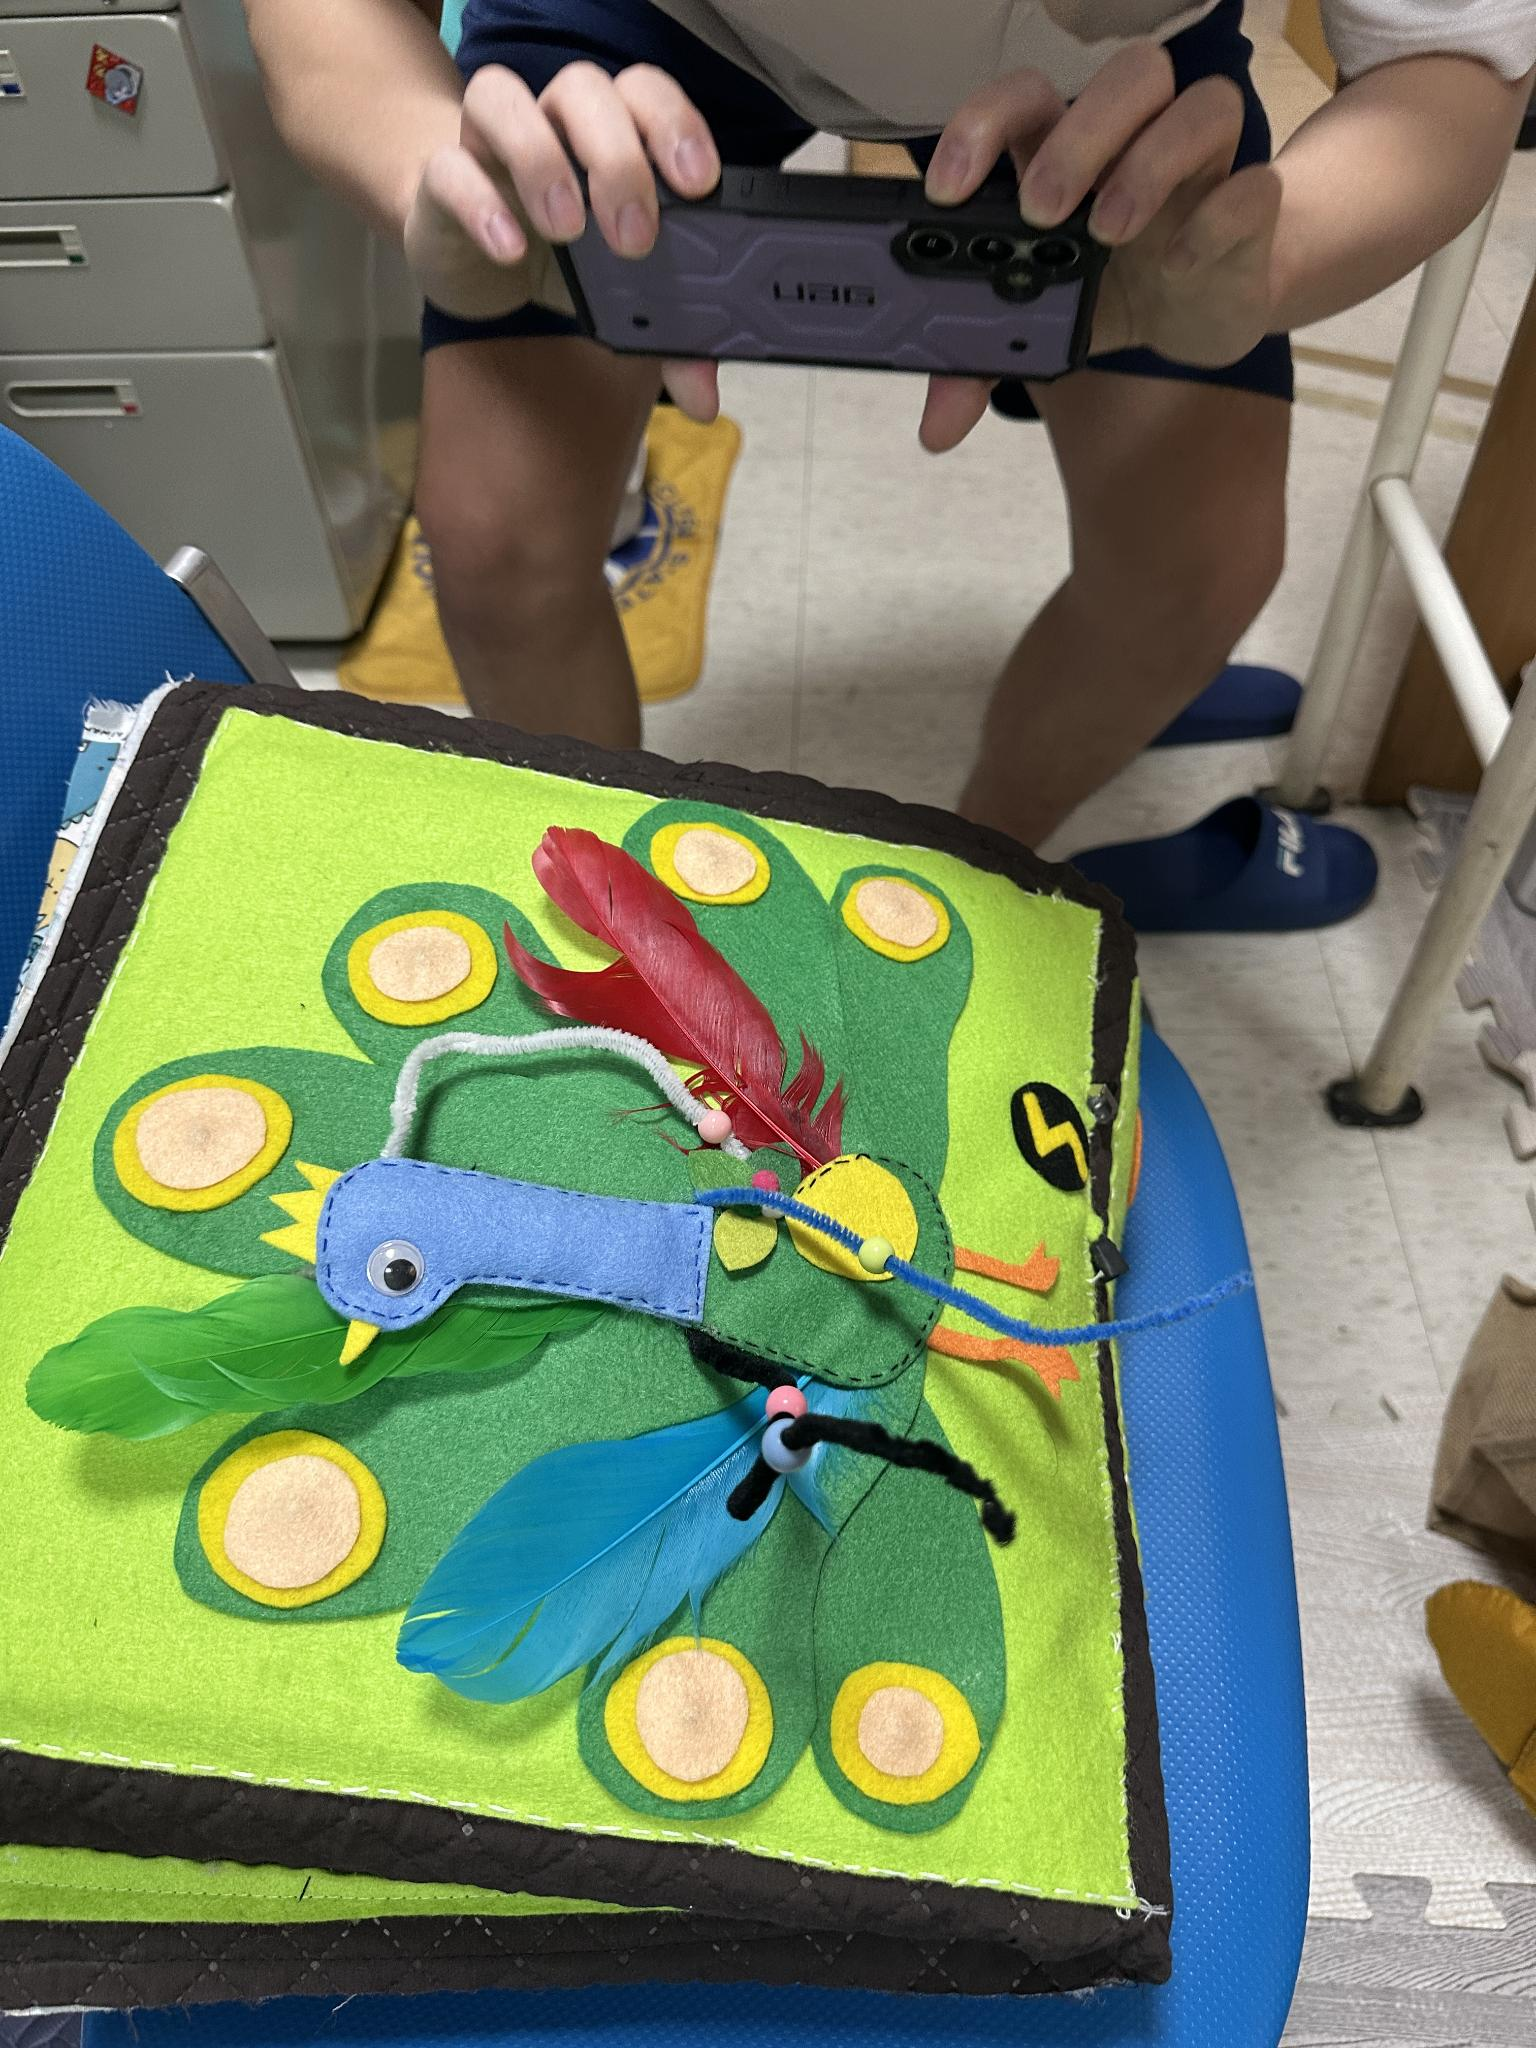bead: (752, 1348, 810, 1419), (762, 1414, 813, 1487), (844, 1221, 902, 1285), (681, 1090, 742, 1143)
